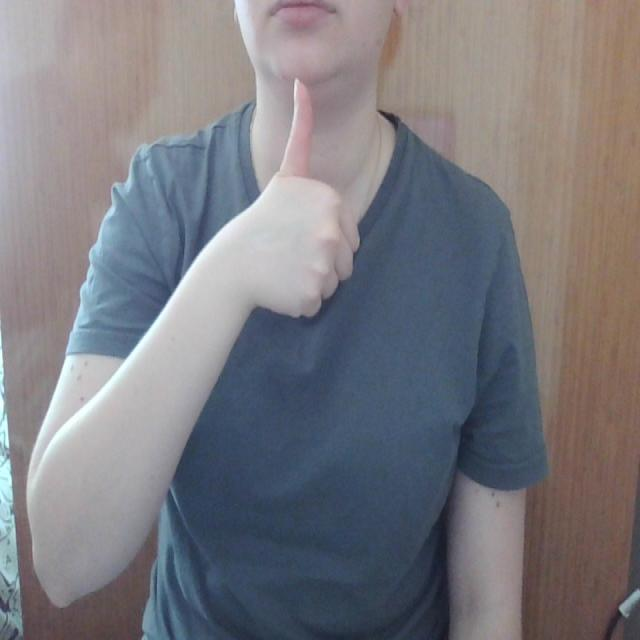Baba: (259, 0, 345, 151)
